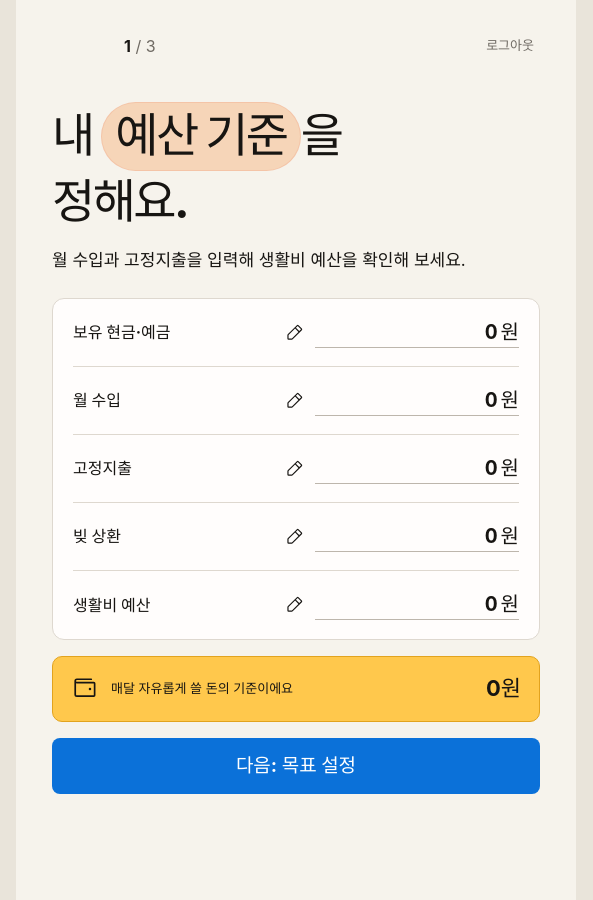
Test: App profile loading › advances from the budget baseline through the goal step without bouncing back
Check: the heading "내 예산 기준" is shown, box [52,102,341,229]
Replace the text in the field named "보유 현금·예금 금액" with "40000000" at (406, 332), box [315,317,498,347]
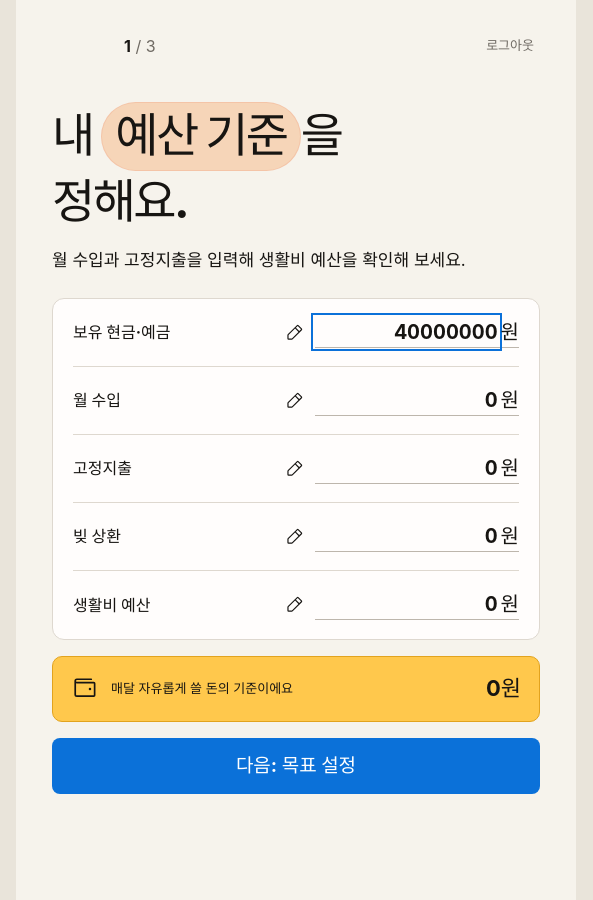
Click the button "다음: 목표 설정" at (296, 766), box [52,738,540,794]
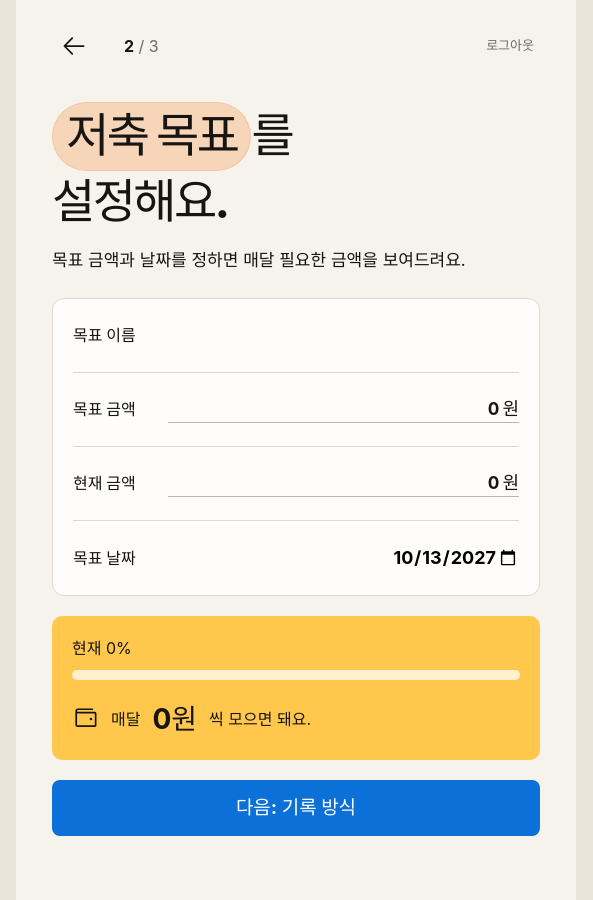
Check: the heading "저축 목표" is shown, box [52,102,292,229]
Click the button "다음: 기록 방식" at (296, 808), box [52,780,540,836]
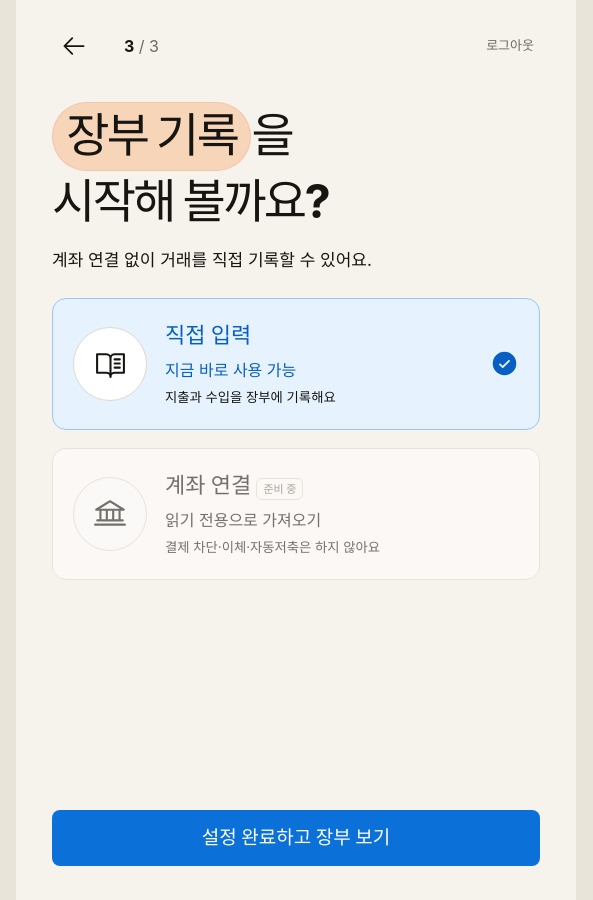
Check: the heading "장부 기록" is shown, box [52,102,328,229]
